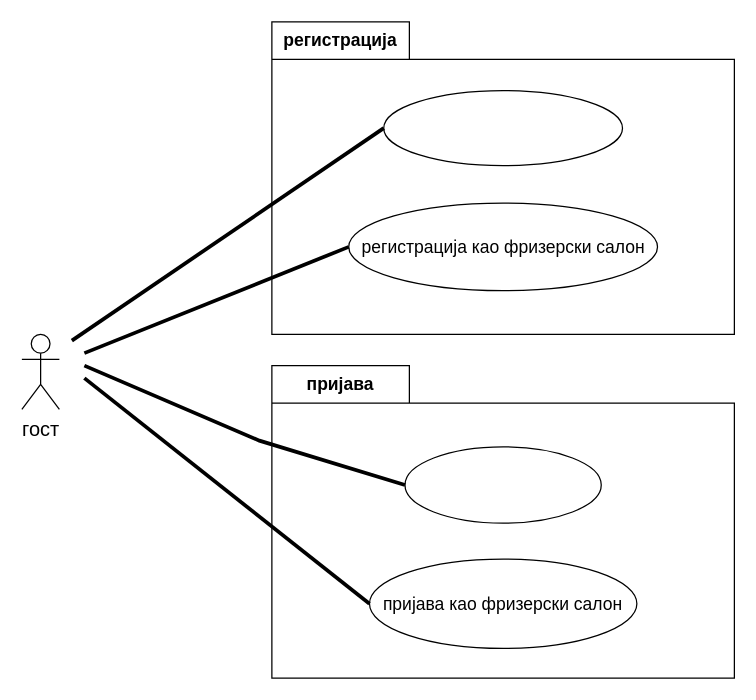
This 756x700 diagram has some shape labels left out. The box of each missing label's shape, as (x1, y1, x2, y2) in pixels:
пријава као клијент: (404, 446, 601, 523)
регистрација као клијент: (382, 89, 622, 166)
